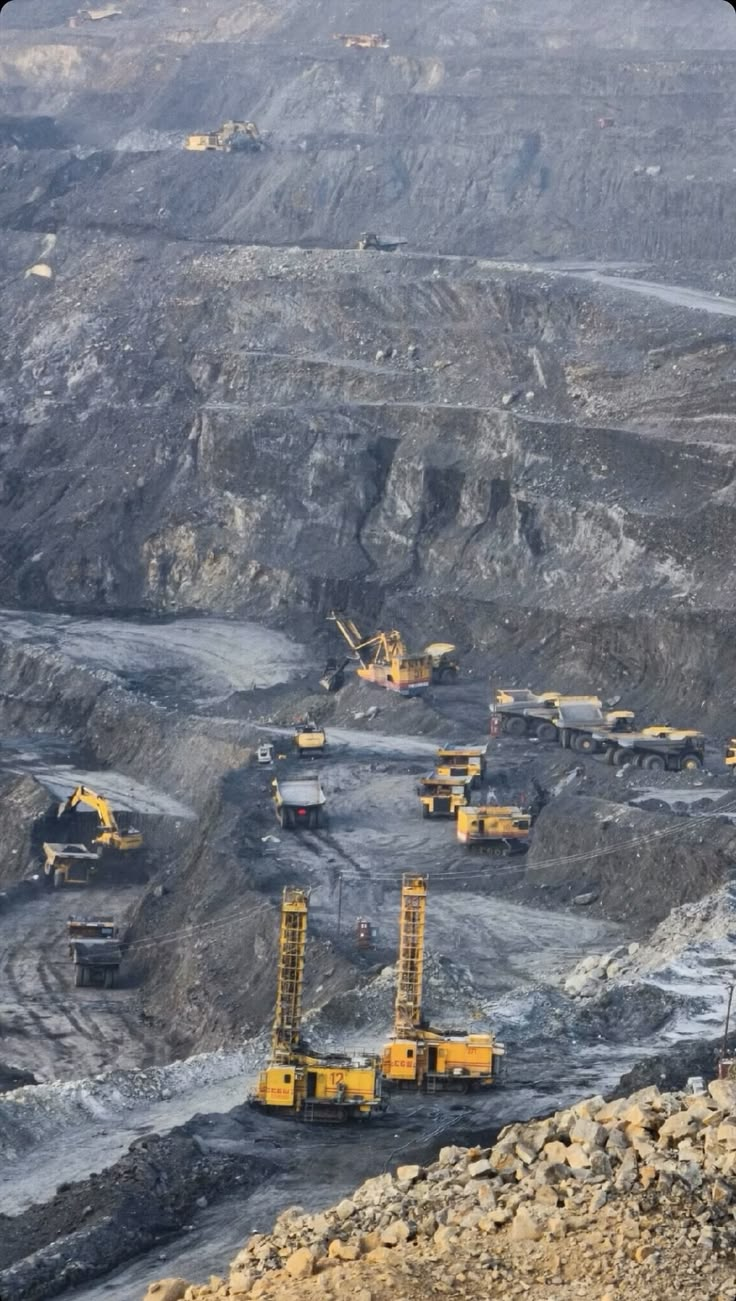crane: (226, 875, 373, 1126), (375, 858, 524, 1100)
excavator: (49, 760, 173, 873), (326, 600, 479, 690)
truck: (601, 698, 696, 785), (484, 677, 573, 749), (395, 735, 483, 807), (451, 798, 540, 869), (245, 766, 326, 828)
